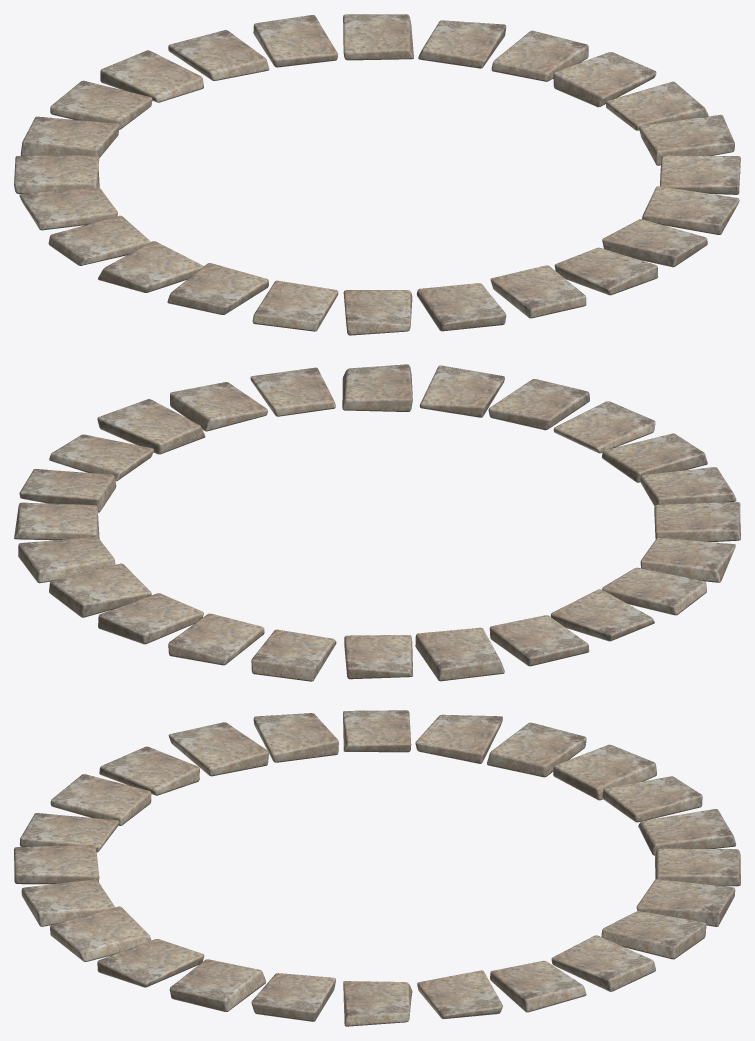
The model's file is ritual_ring.glb.
3 renders of one model, top to bottom at view 1: azimuth 30°, elevation 25°; view 2: azimuth 150°, elevation 25°; view 3: azimuth 270°, elevation 25°, orthographic.
Visible parts, largest first — view 1: Worn masonry; view 2: Worn masonry; view 3: Worn masonry.
Boxes of the visible parts, x1,y1,x2,y2 form: Worn masonry: [14, 14, 740, 335]; Worn masonry: [14, 364, 740, 681]; Worn masonry: [14, 710, 740, 1026].
Size of the model in its own units: 5.43 by 0.1369 by 5.46.
1 material, 1 textured.
